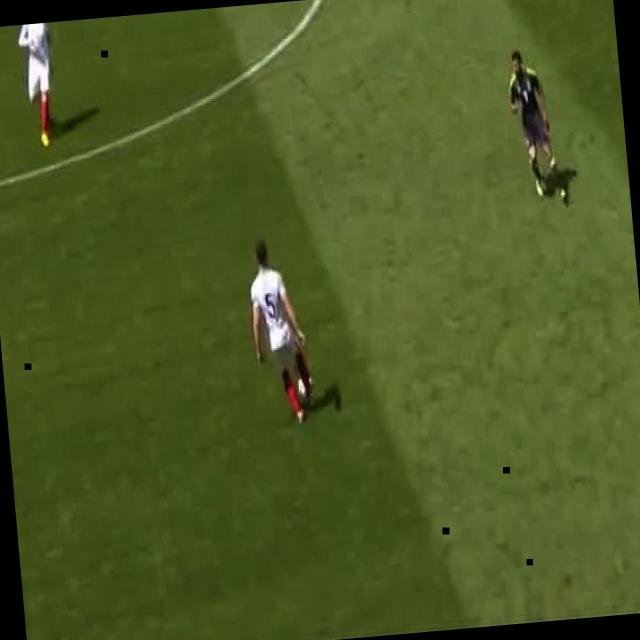ball: (297, 372, 314, 402)
player-white: (245, 238, 317, 428), (507, 46, 568, 206), (18, 22, 60, 147)
